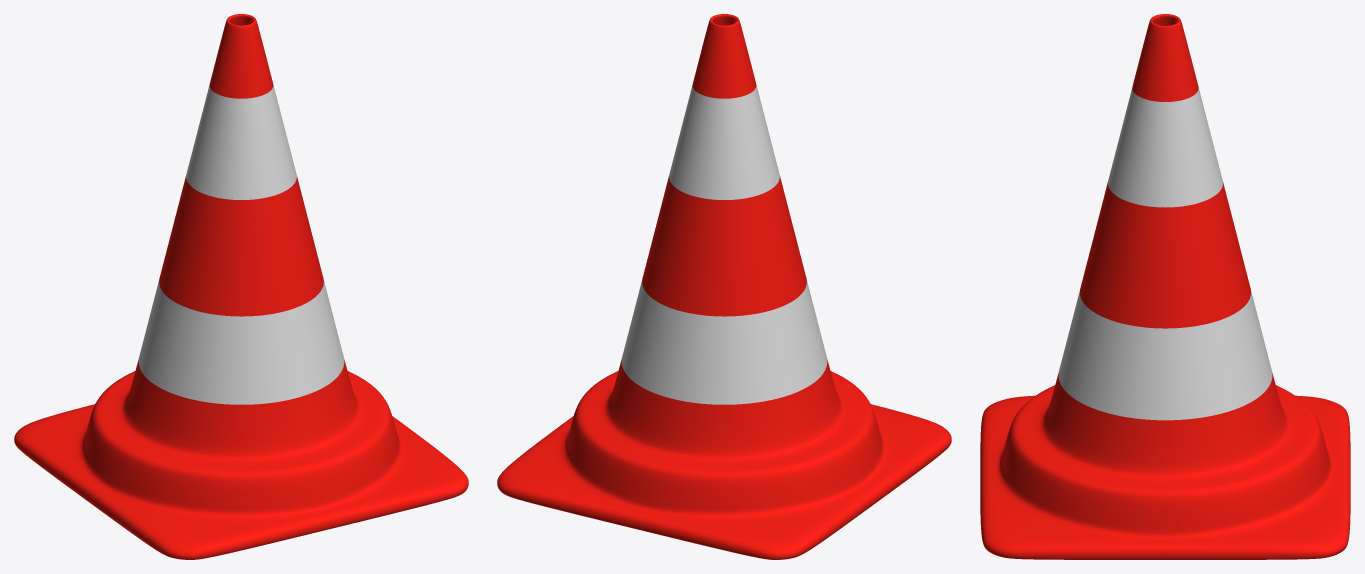
Rendered from roadCone 1.fbx.
The picture shows the model from 3 angles, left to right: view 1: azimuth 30°, elevation 25°; view 2: azimuth 150°, elevation 25°; view 3: azimuth 270°, elevation 25°; orthographic projection. The views are drawn at different scales.
Visible parts, largest first — view 1: RoadCone; view 2: RoadCone; view 3: RoadCone.
Part boxes in pixels (<box>): RoadCone: <box>14,14,468,559</box>; RoadCone: <box>497,14,951,559</box>; RoadCone: <box>980,14,1350,559</box>.
Bounding box in the file's own units: 200 × 275 × 200.
